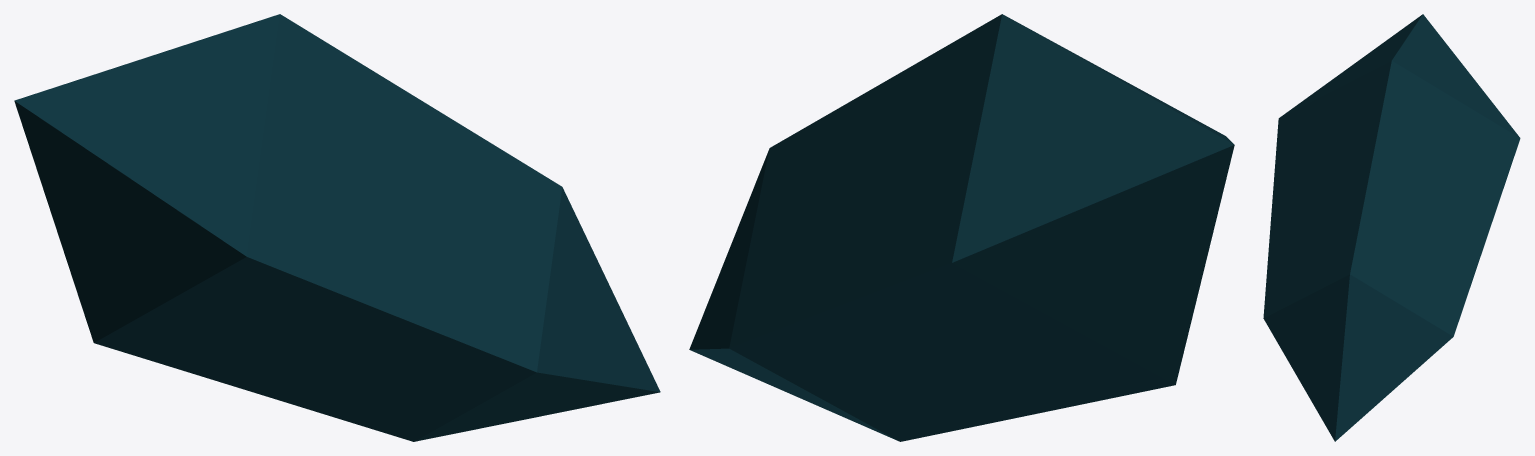
Rendered from left_leg_upper.obj.
The picture shows the model from 3 angles, left to right: view 1: azimuth 30°, elevation 25°; view 2: azimuth 150°, elevation 25°; view 3: azimuth 270°, elevation 25°; orthographic projection. The views are drawn at different scales.
Visible parts, largest first — view 1: left_leg_upper; view 2: left_leg_upper; view 3: left_leg_upper.
Part boxes in pixels (x1,y1,x2,y2): left_leg_upper: (14, 14, 660, 441); left_leg_upper: (689, 14, 1234, 441); left_leg_upper: (1263, 14, 1520, 441).
Size of the model in its own units: 1.56 by 1.14 by 0.9343.
